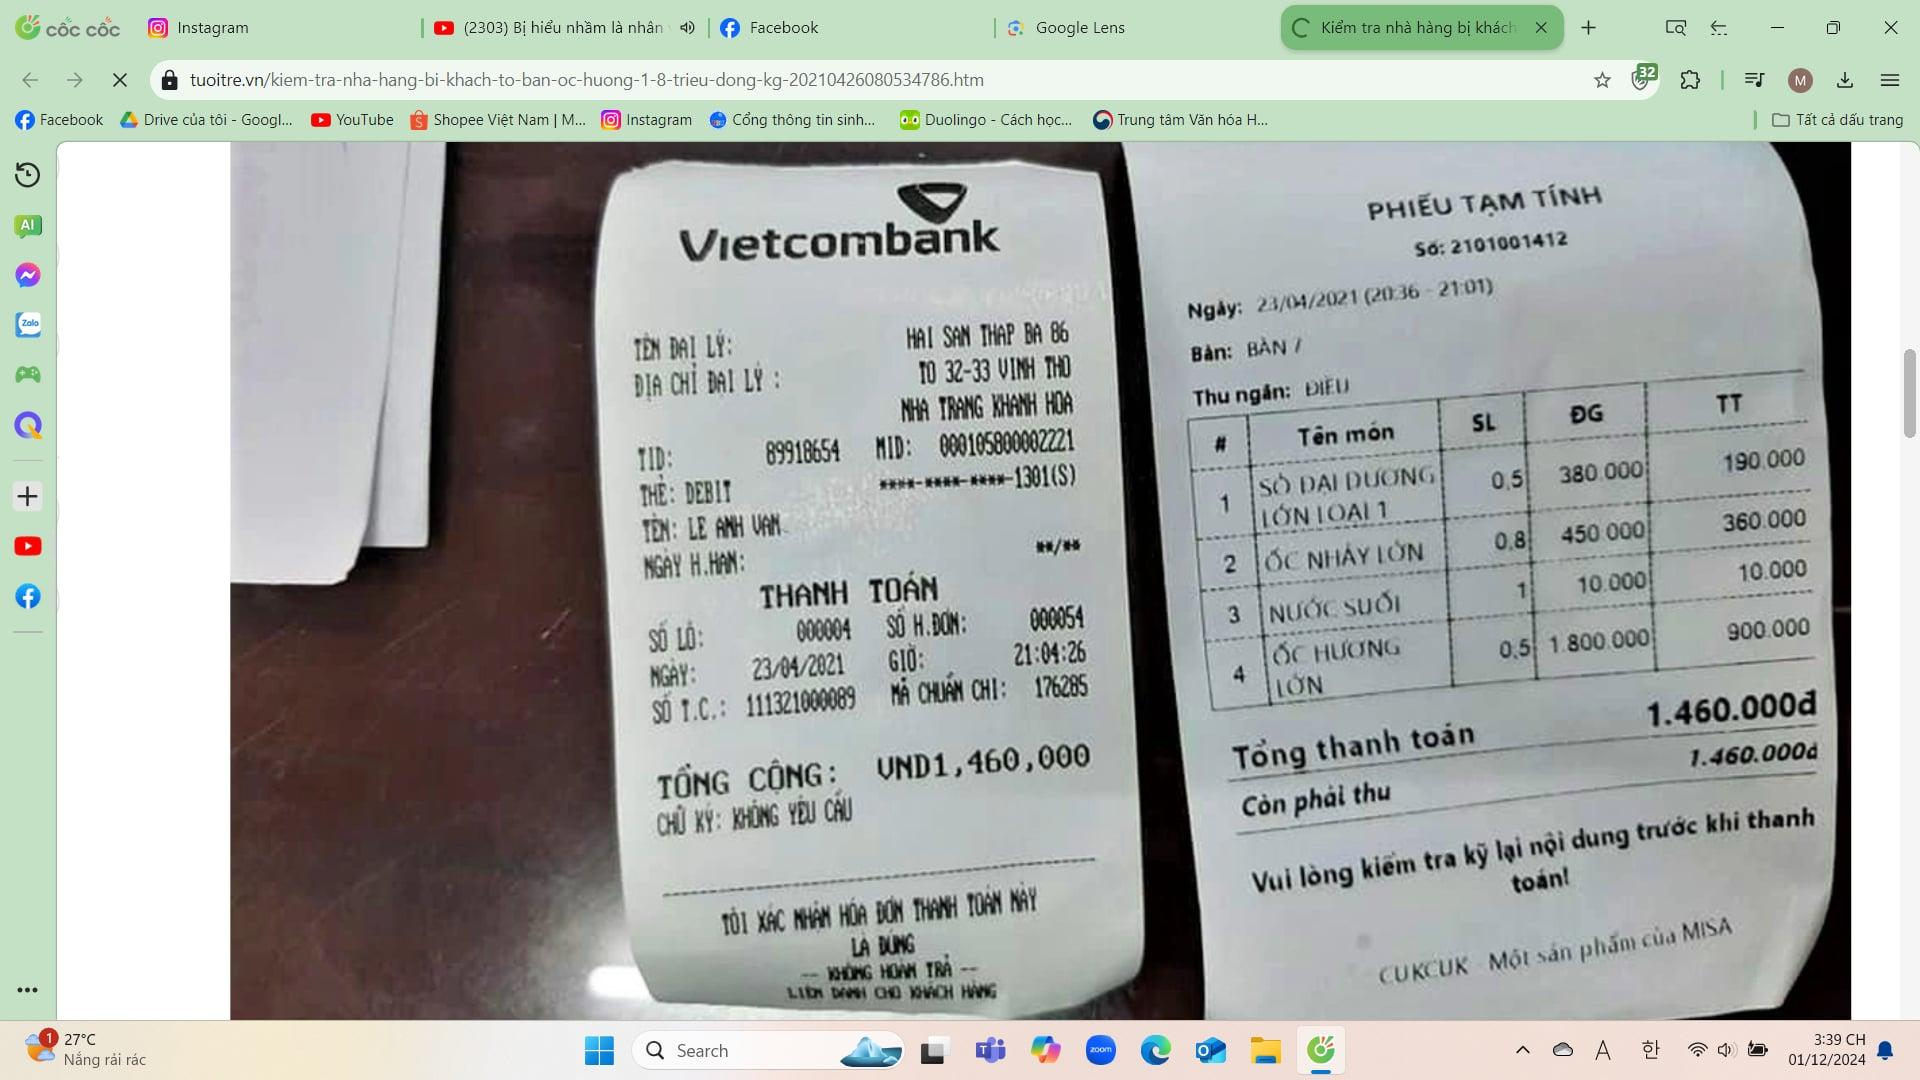receipt: (589, 152, 1106, 810)
